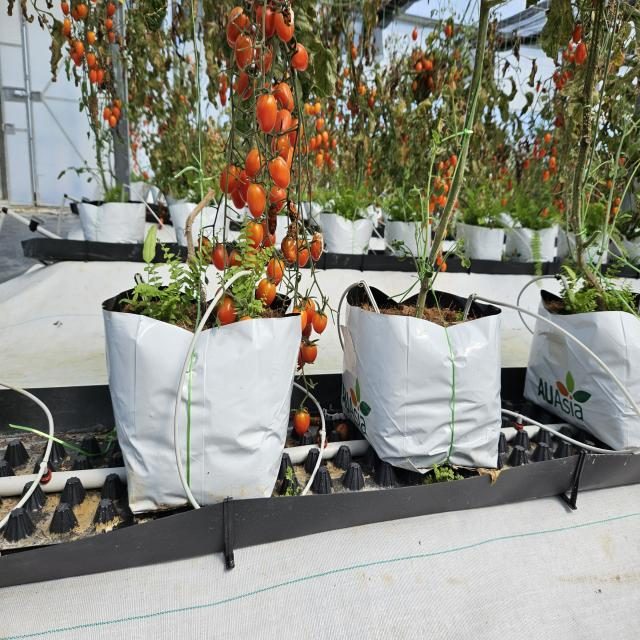Soilbag: (94, 279, 307, 513), (344, 284, 506, 469), (525, 288, 640, 451)
plant: (189, 4, 328, 441), (410, 0, 499, 333), (559, 0, 627, 307)
